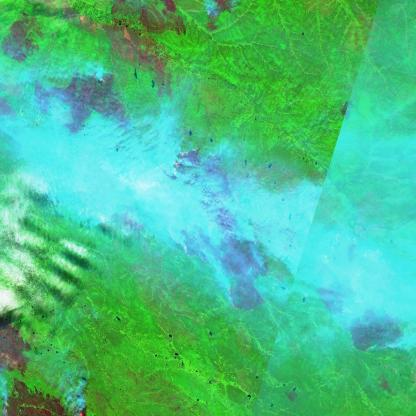fire: (160, 136, 280, 315), (73, 62, 130, 127)
